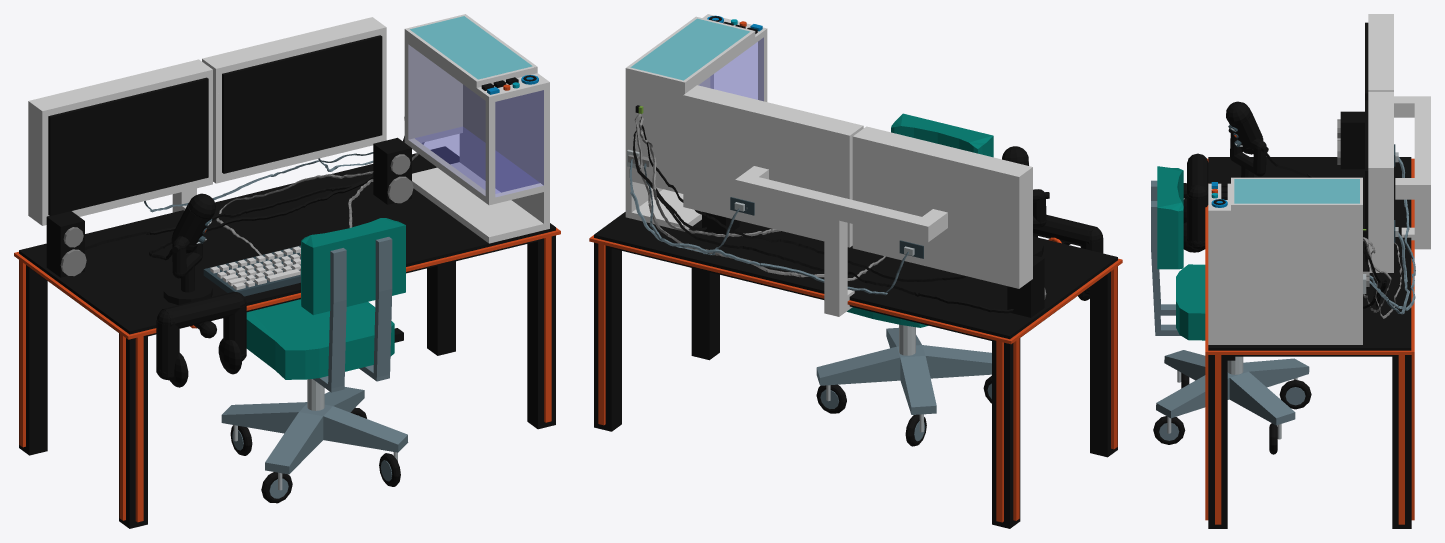
The picture shows the model from 3 angles, left to right: view 1: azimuth 30°, elevation 25°; view 2: azimuth 150°, elevation 25°; view 3: azimuth 270°, elevation 25°; orthographic projection. The views are drawn at different scales.
Visible parts, largest first — view 1: node_MeshObject1499186176-PolyPaper21, node_MeshObject1260544-PolyPaper22, node_MeshObject573339648-PolyPaper23, node_MeshObject2071265280-PolyGlass24; view 2: node_MeshObject1499186176-PolyPaper21, node_MeshObject1260544-PolyPaper22, node_MeshObject573339648-PolyPaper23, node_MeshObject2071265280-PolyGlass24; view 3: node_MeshObject1499186176-PolyPaper21, node_MeshObject1260544-PolyPaper22, node_MeshObject573339648-PolyPaper23.
Part boxes in pixels (x1,y1,x2,y2): node_MeshObject1499186176-PolyPaper21: [14, 14, 560, 340]; node_MeshObject1260544-PolyPaper22: [19, 142, 555, 528]; node_MeshObject573339648-PolyPaper23: [46, 66, 534, 387]; node_MeshObject2071265280-PolyGlass24: [408, 45, 543, 196]; node_MeshObject1499186176-PolyPaper21: [589, 14, 1122, 344]; node_MeshObject1260544-PolyPaper22: [594, 113, 1117, 528]; node_MeshObject573339648-PolyPaper23: [633, 17, 1103, 317]; node_MeshObject2071265280-PolyGlass24: [699, 38, 763, 100]; node_MeshObject1499186176-PolyPaper21: [1205, 14, 1430, 356]; node_MeshObject1260544-PolyPaper22: [1151, 133, 1415, 528]; node_MeshObject573339648-PolyPaper23: [1183, 101, 1391, 312].
Size of the model in its own units: 1.42 by 1.11 by 0.8676.
